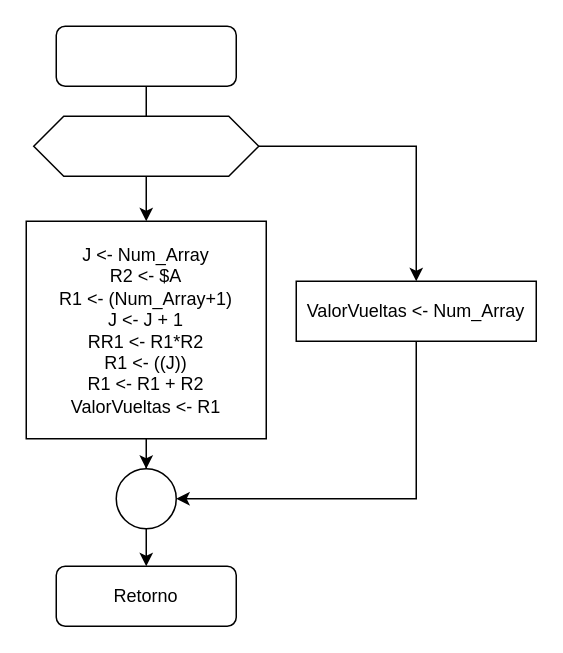
Some shapes in this 563 by 653 pixel diagram are drawn without their labels. Each missing label, with the box of its shape:
(Num_Array+1) = $FF: (32, 115, 259, 176)
BCD_BIN: (55, 25, 236, 86)
